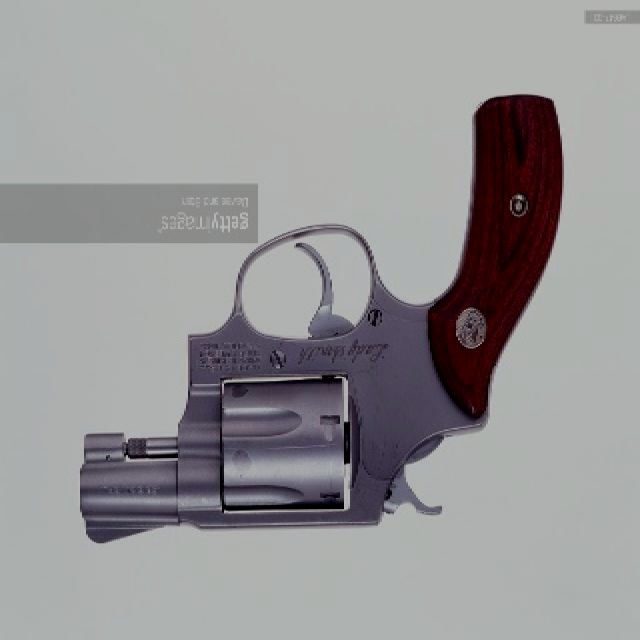gun: (78, 95, 572, 550)
